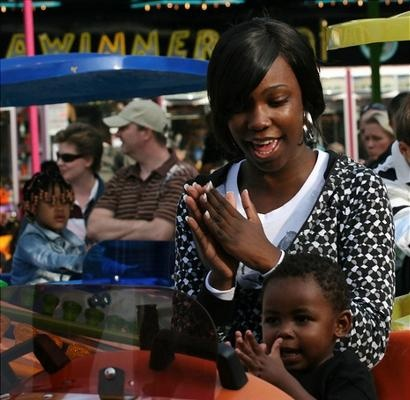person without safety: (159, 15, 396, 302)
